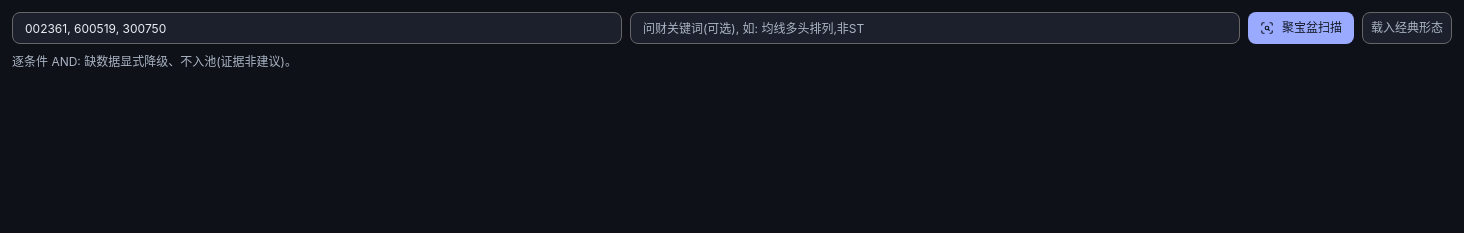
it: JbpPoolTable 聚宝盆选股 › 缺数据条件显式降级 + 该股未入选
The width and height of the screenshot is (1464, 233).
What coordinates should you click on to do the following:
click the button "聚宝盆扫描"
I would click on:
 (1301, 28)
Its box is [1248,12,1354,44].
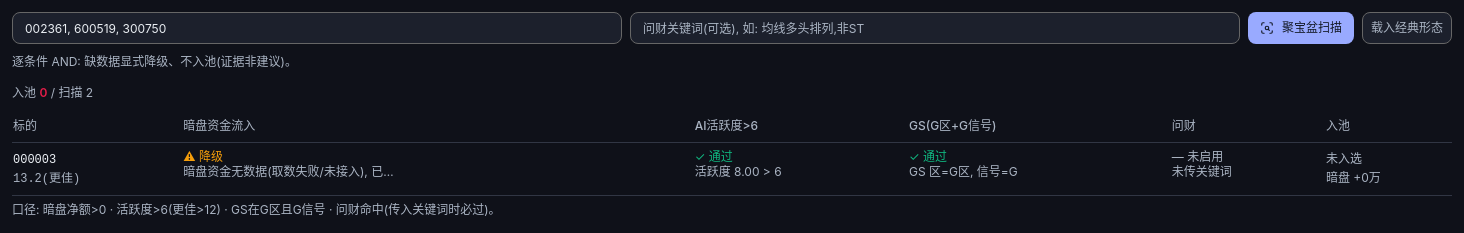
Now the text with test id "jbp-cond-000003-dark_inflow" shows "降级", box [183,149,223,164]
Now the text with test id "jbp-inpool-000003" reads "未入选", box [1326,151,1362,166]
